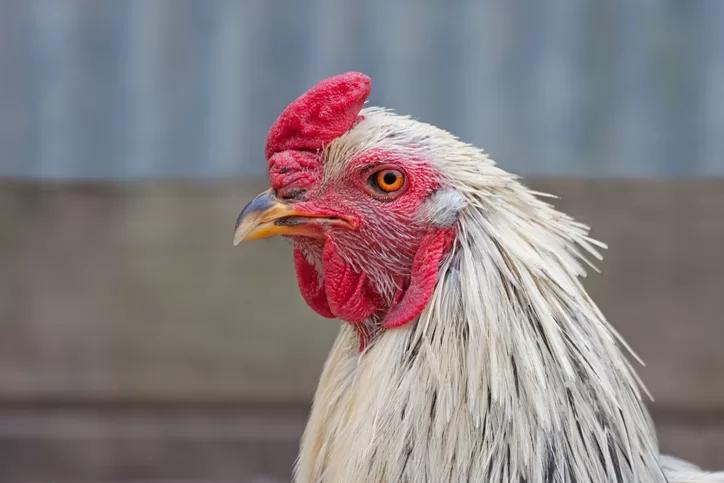AbNormal: (266, 70, 370, 192)
